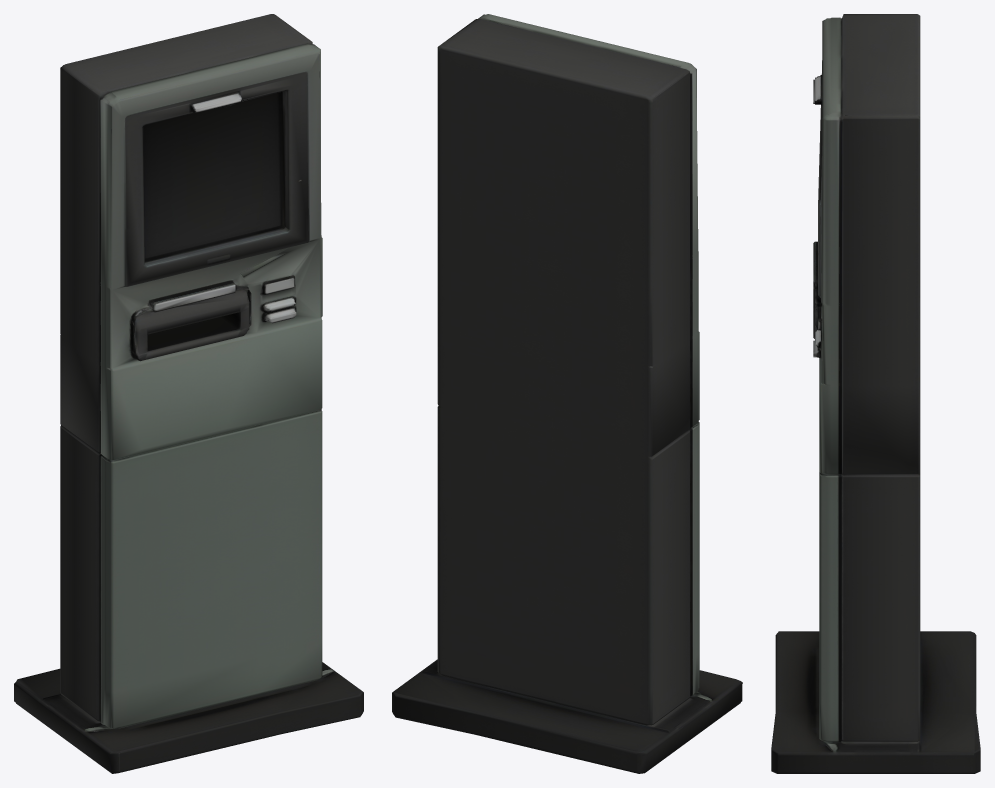
Rendered from clock-station-v1.glb.
3 views of the same model, side by side, from view 1: azimuth 30°, elevation 25°; view 2: azimuth 150°, elevation 25°; view 3: azimuth 270°, elevation 25° (orthographic).
Visible parts, largest first — view 1: tripo_node_1f2530e2-b765-4589-85e3-276e5edf5e45; view 2: tripo_node_1f2530e2-b765-4589-85e3-276e5edf5e45; view 3: tripo_node_1f2530e2-b765-4589-85e3-276e5edf5e45.
Boxes of the visible parts, x1,y1,x2,y2 form: tripo_node_1f2530e2-b765-4589-85e3-276e5edf5e45: [14, 14, 363, 773]; tripo_node_1f2530e2-b765-4589-85e3-276e5edf5e45: [392, 14, 742, 773]; tripo_node_1f2530e2-b765-4589-85e3-276e5edf5e45: [771, 14, 980, 773].
Size of the model in its own units: 0.5 by 1.23 by 0.36.
1 material, 1 textured.
